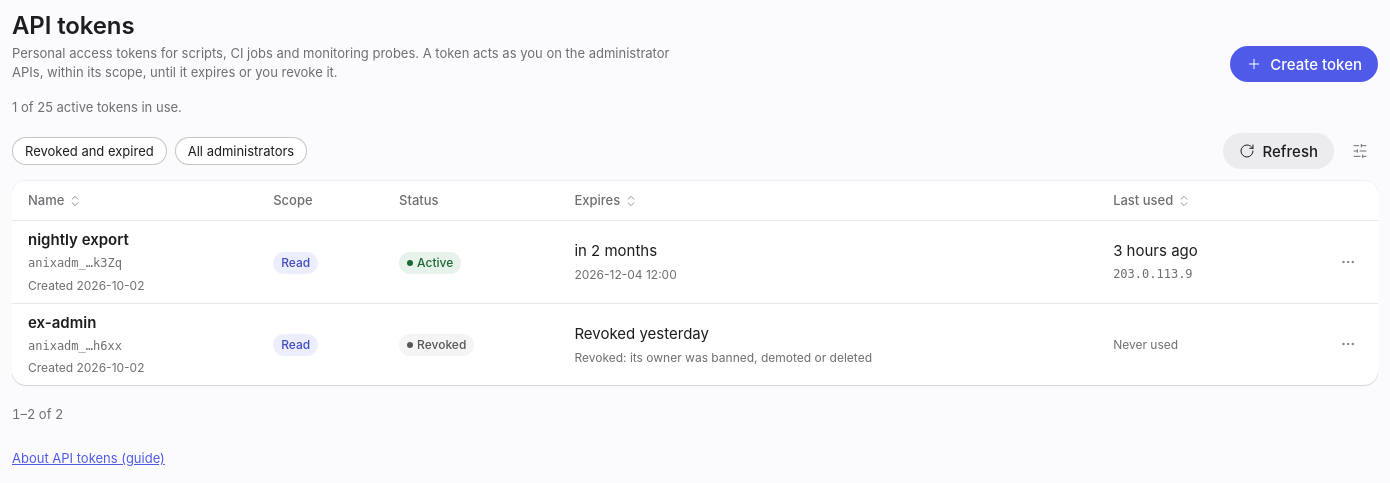
Test: Admin API tokens › lists everyone's tokens with an owner column, and says whose each is
This screenshot has width=1390, height=483.
Check: the heading "API tokens" is shown, box x1=12 y1=11 x2=134 y2=40
Click the button "All administrators". click: (241, 151)
box: x1=175 y1=137 x2=307 y2=165
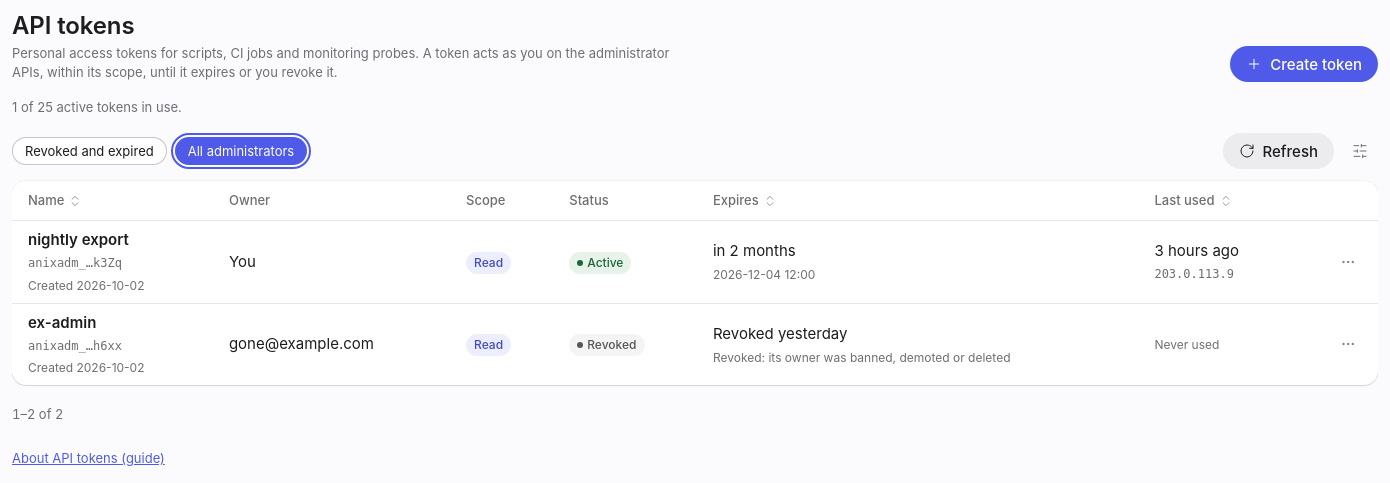
Check: the column heading "Owner" is shown, box x1=213 y1=181 x2=450 y2=221
Check: the text "You" is shown, box x1=229 y1=252 x2=256 y2=271
Check: the text "gone@example.com" is shown, box x1=229 y1=334 x2=374 y2=353
